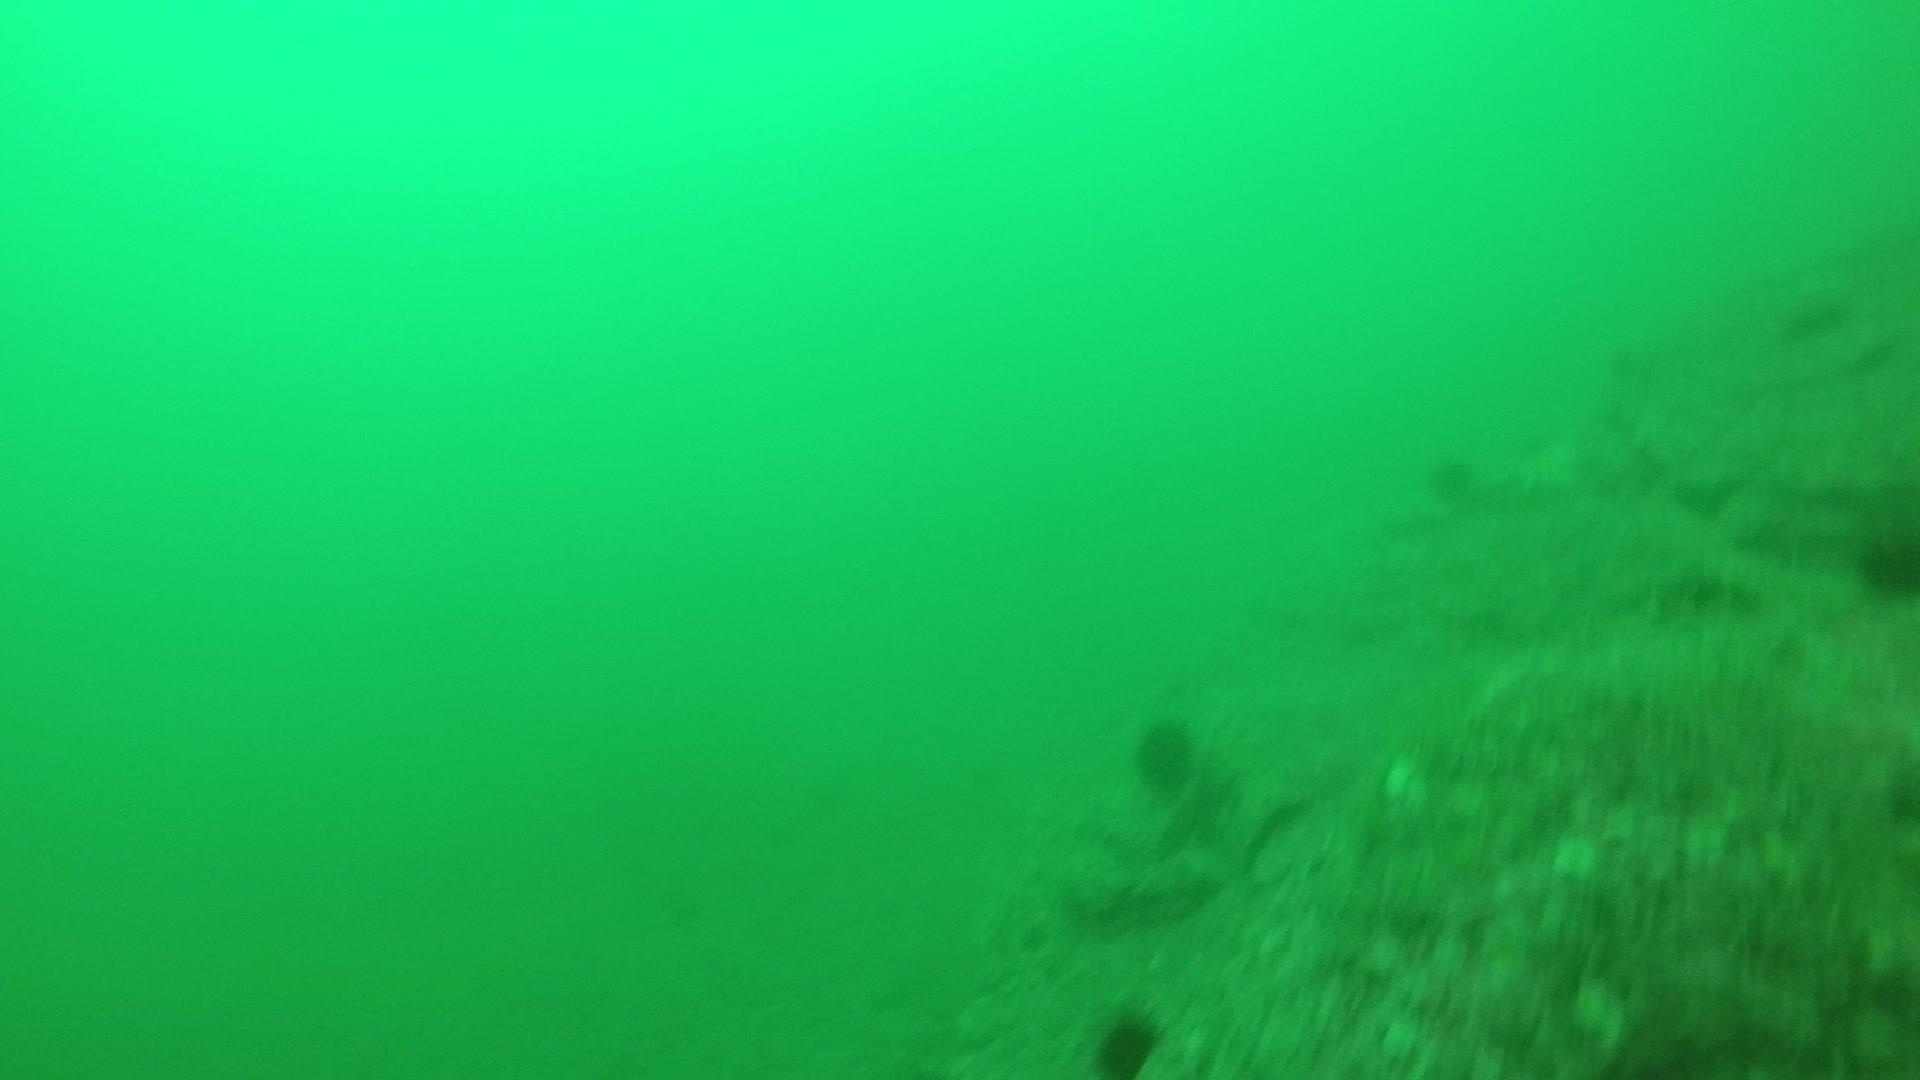echinus: (1127, 711, 1204, 796), (1851, 517, 1919, 604), (1088, 1005, 1167, 1077), (1776, 284, 1853, 347), (1423, 450, 1481, 504)
